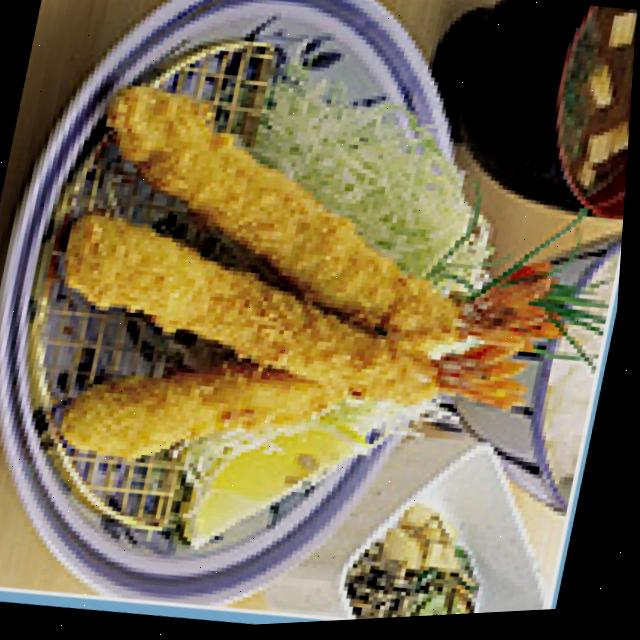炸货点心: (0, 54, 625, 596)
熟制海鲜: (0, 54, 625, 596)
